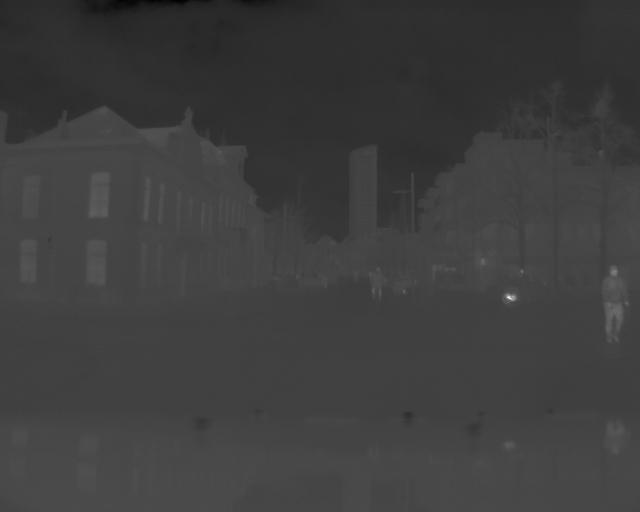person: (600, 263, 631, 347), (367, 263, 383, 303)
